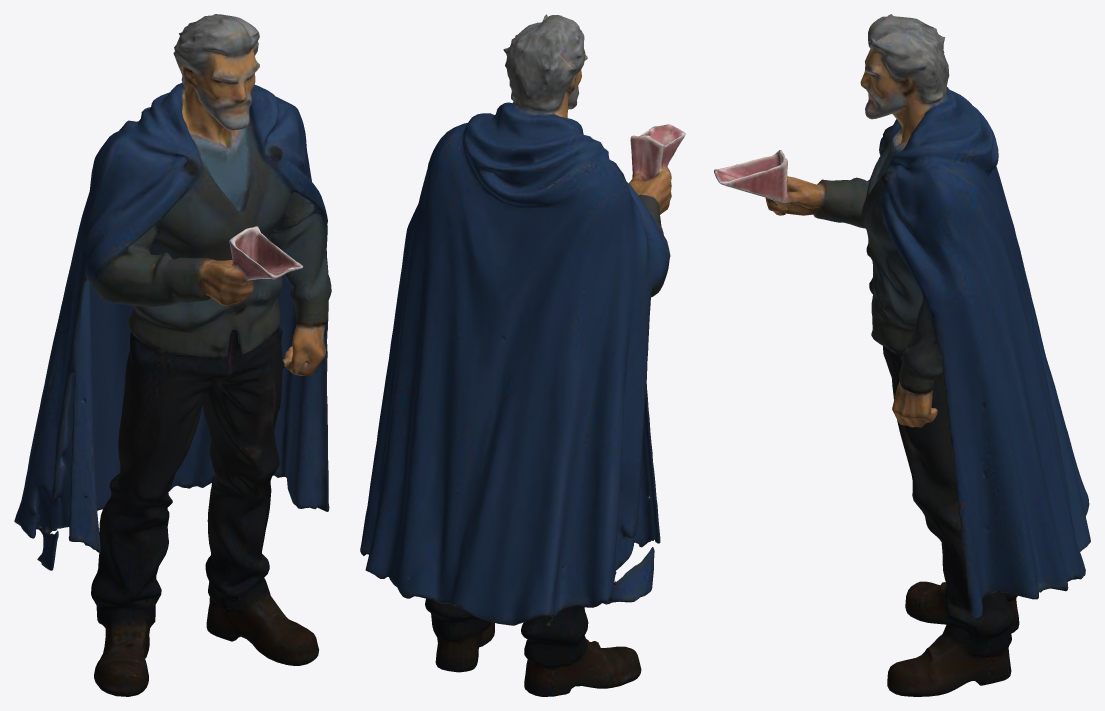
Rendered from neutral_retired.glb.
The picture shows the model from 3 angles, left to right: view 1: azimuth 30°, elevation 25°; view 2: azimuth 150°, elevation 25°; view 3: azimuth 270°, elevation 25°; orthographic projection. The views are drawn at different scales.
Size of the model in its own units: 0.4043 by 0.9061 by 0.4852.
Materials: 1 (1 with a texture image).
